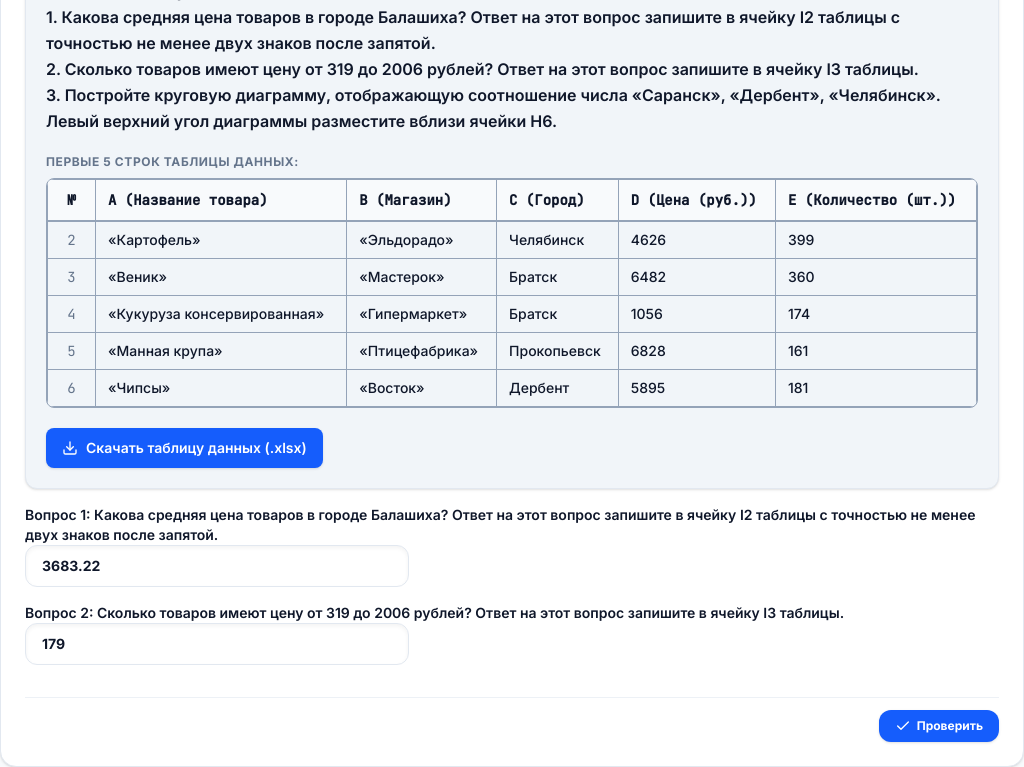
Test case: TaskAnswerPanel component › задание 14: до «Проверить» чекбокса нет; после «Проверить» с двумя верными числами вердикт 2 из 3; после клика по чекбоксу вердикт становится 3 из 3, а кнопка Н
(page scrolled)
Expected: the checkbox labelled "моя диаграмма совпадает с эталонной" is not shown
// Нажимаем «Проверить» с двумя верными числами
Click the button "Проверить". click: x=939, y=726
box: [879, 710, 999, 742]
(page scrolled)
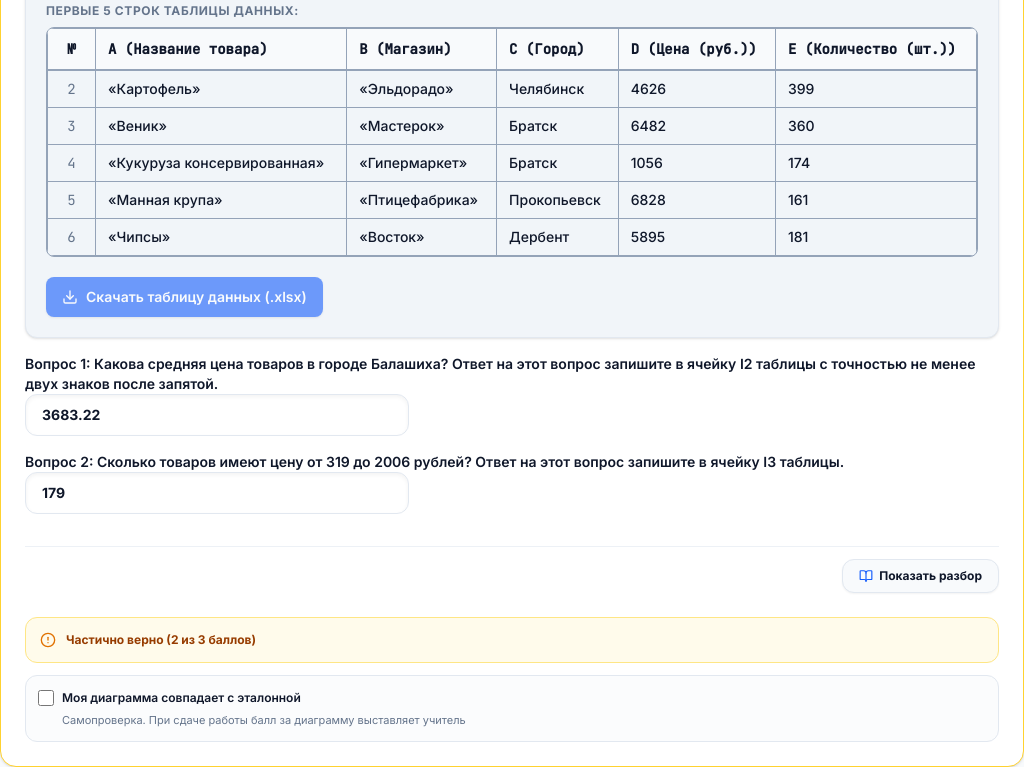
Now the text "Частично верно (2 из 3 баллов)" is shown, box [66, 632, 256, 648]
Now the checkbox labelled "Моя диаграмма совпадает с эталонной" is shown
Now the checkbox labelled "Моя диаграмма совпадает с эталонной" is not checked
// Кликаем по чекбоксу — вердикт становится 3 из 3, а кнопка НЕ вернулась в «Проверить»
Click the checkbox labelled "Моя диаграмма совпадает с эталонной". click: x=46, y=698
box: [38, 690, 54, 706]
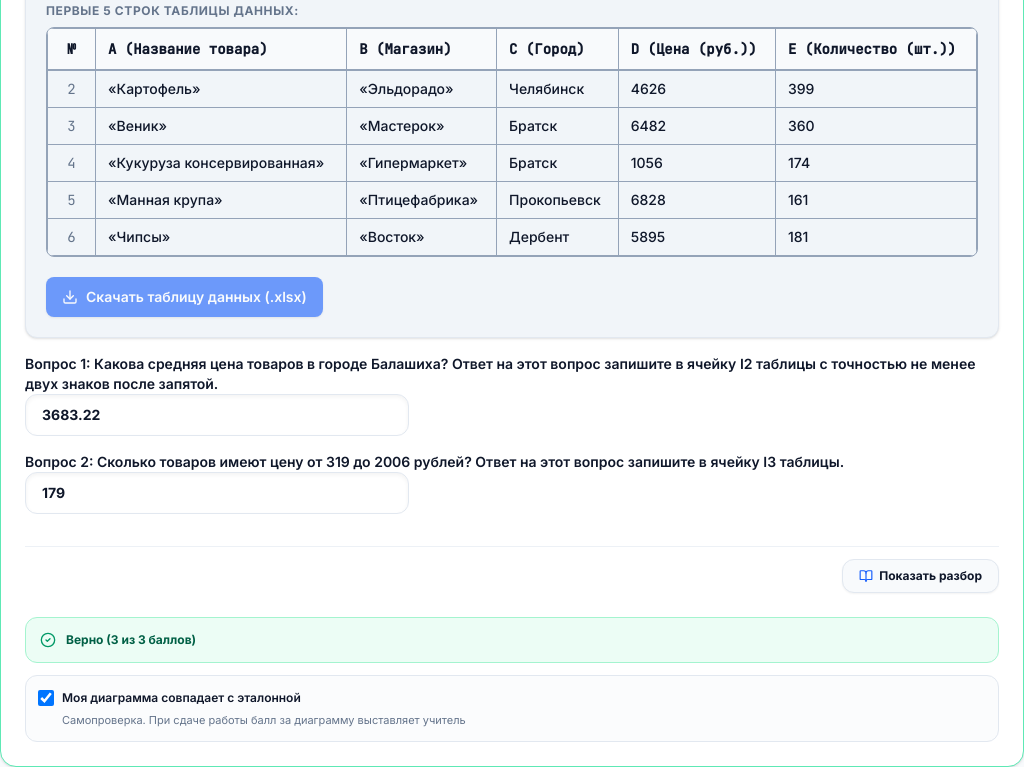
Now the checkbox labelled "Моя диаграмма совпадает с эталонной" is checked
Now the button "Показать разбор" is shown, box [842, 559, 999, 593]
Now the text "Верно (3 из 3 баллов)" is shown, box [66, 632, 196, 648]
// Повторный клик возвращает 2 из 3, кнопка по-прежнему не вернулась в «Проверить»
Click the checkbox labelled "Моя диаграмма совпадает с эталонной". click: x=46, y=698
box: [38, 690, 54, 706]
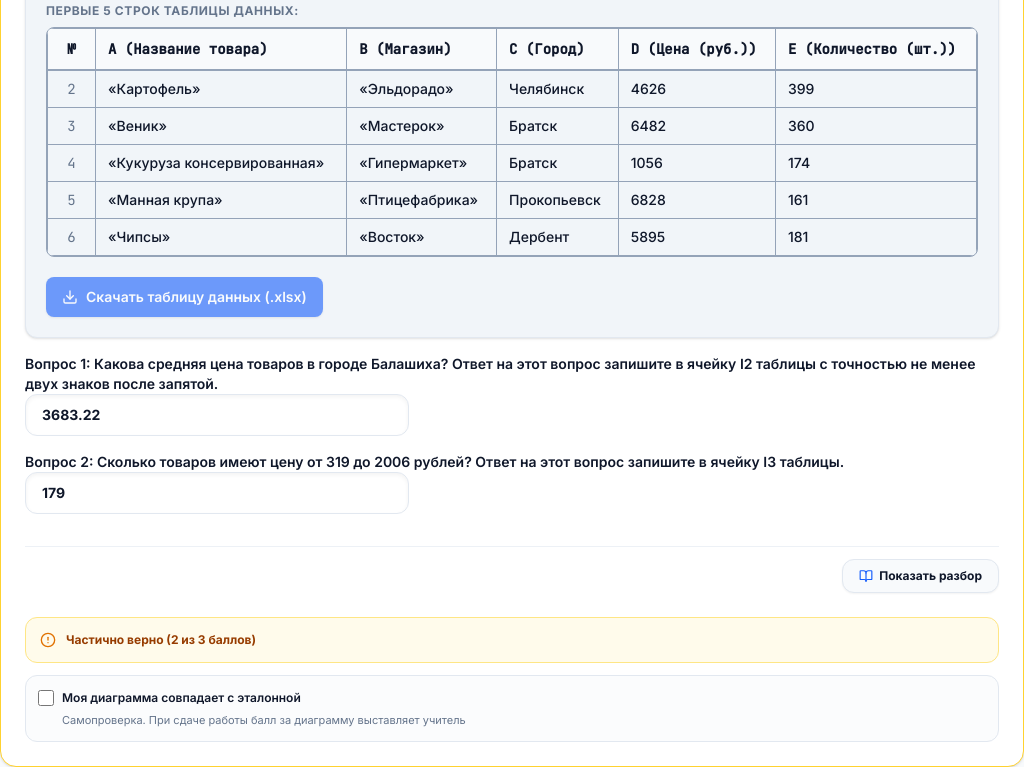
Now the checkbox labelled "Моя диаграмма совпадает с эталонной" is not checked, box [38, 690, 54, 706]
Now the button "Показать разбор" is shown, box [842, 559, 999, 593]
Now the text "Частично верно (2 из 3 баллов)" is shown, box [66, 632, 256, 648]
